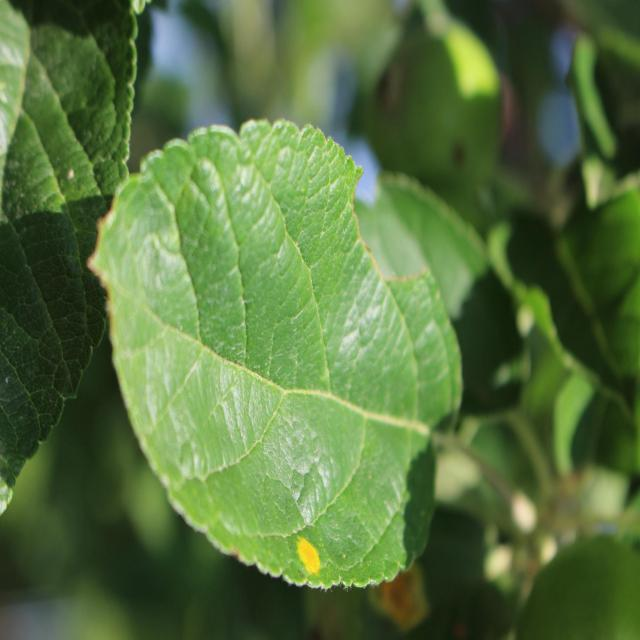Rust: (279, 510, 337, 590)
